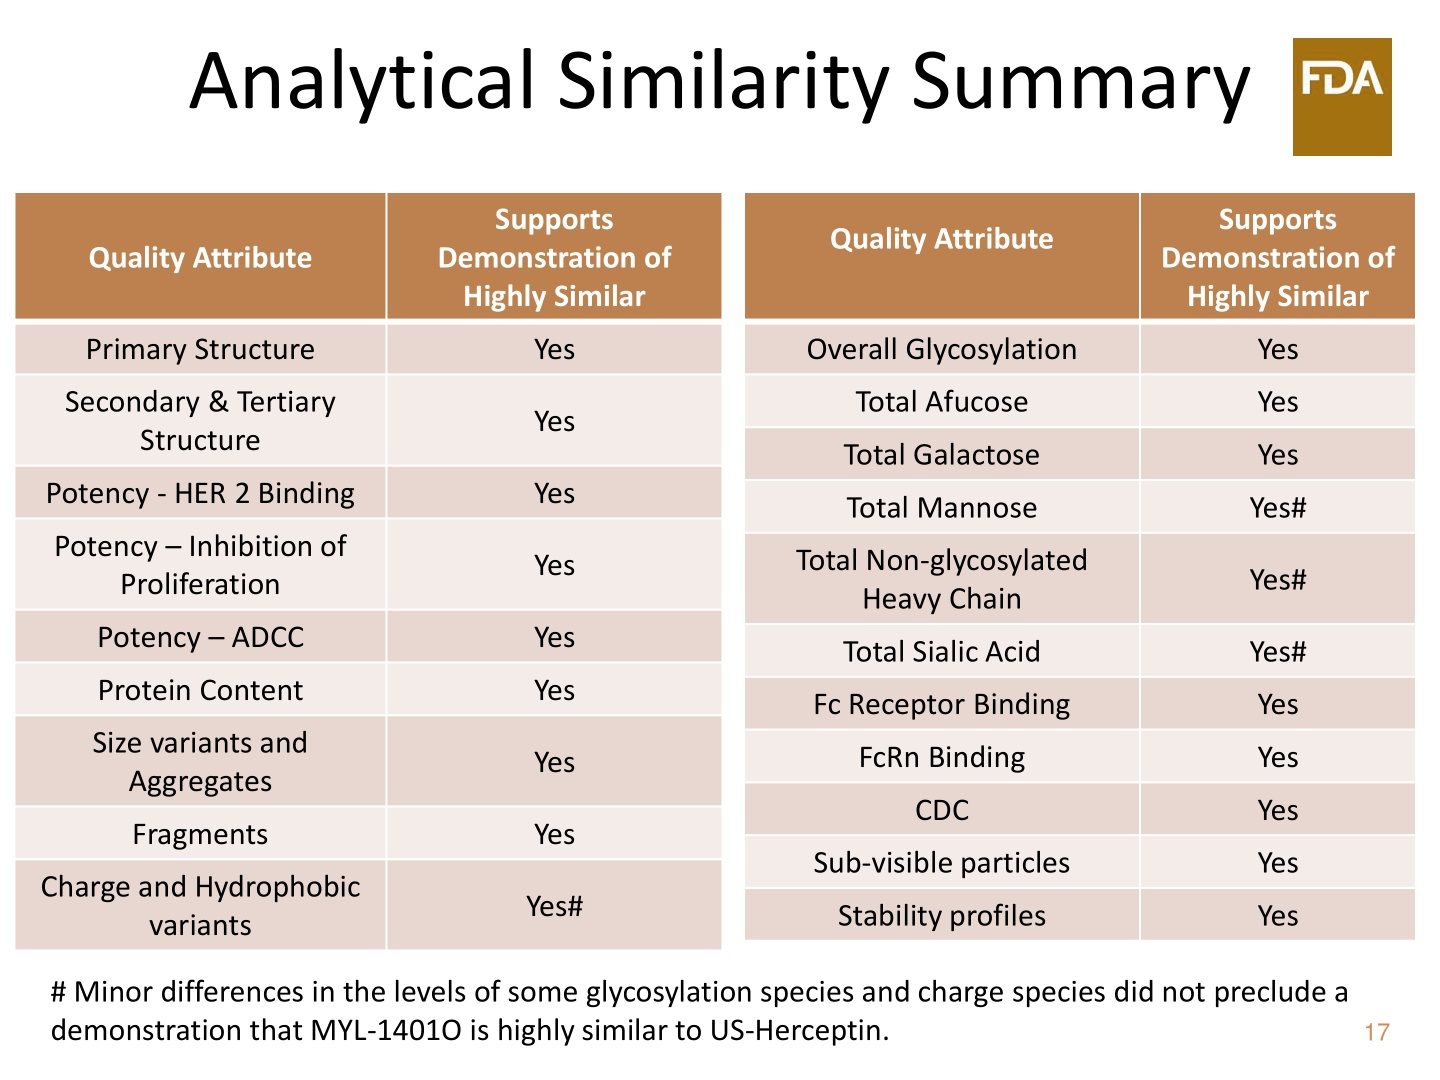full_lined: (15, 193, 722, 950), (745, 193, 1416, 942)
